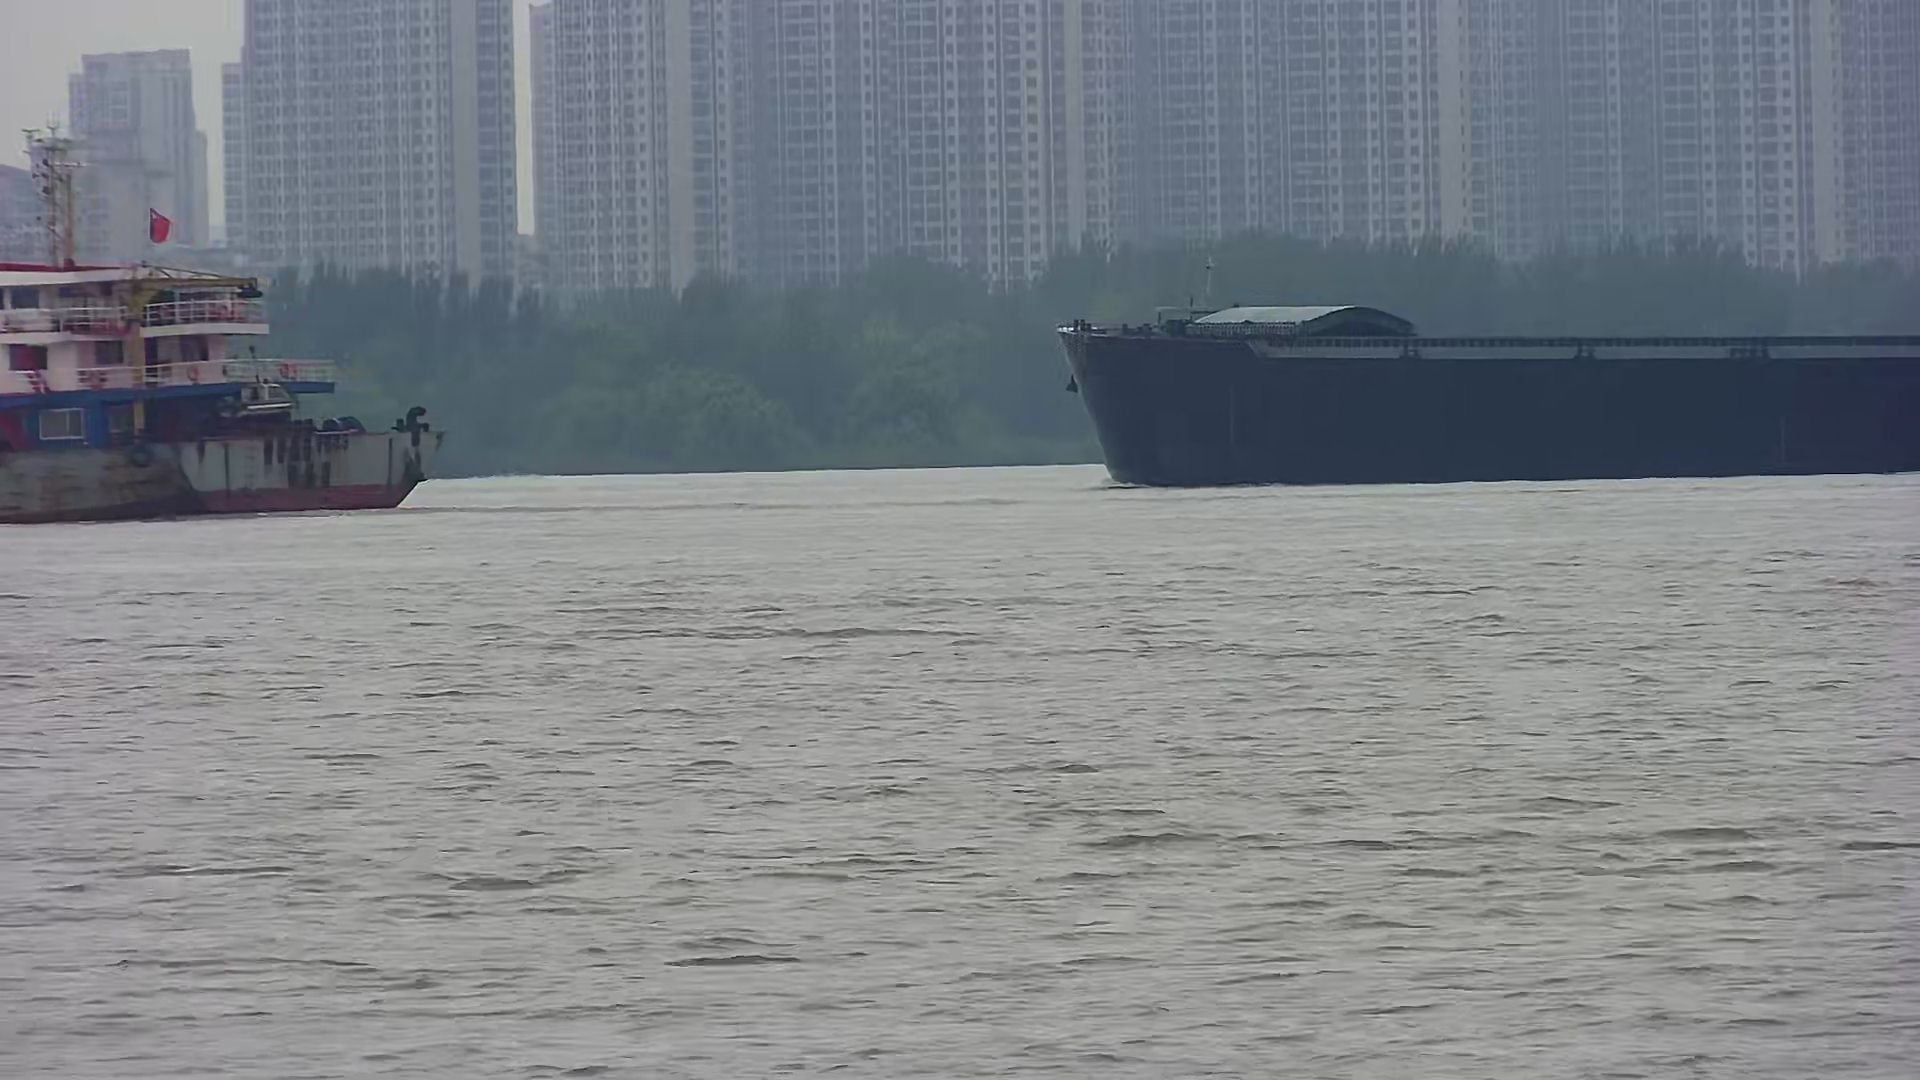ship: (1054, 299, 1920, 489), (1, 210, 454, 524)
